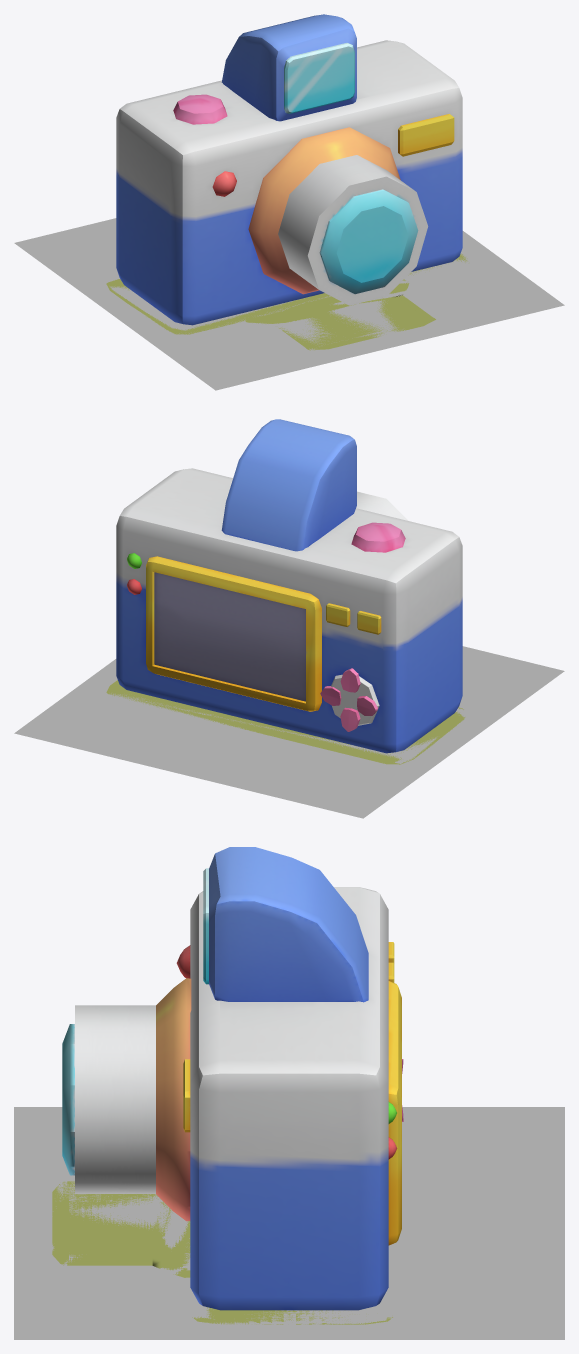
The model's file is Camera.fbx.
3 renders of one model, top to bottom at view 1: azimuth 30°, elevation 25°; view 2: azimuth 150°, elevation 25°; view 3: azimuth 270°, elevation 25°, orthographic. The views are drawn at different scales.
Visible parts, largest first — view 1: Camera.001, CameraGrid, Lens, CameraTop, Camera_Shadow, Flash, Button, Power; view 2: Camera.001, CameraGrid, Screen, CameraTop, Camera_Shadow, Button, Controls, Lens; view 3: CameraGrid, Camera.001, Lens, CameraTop, Camera_Shadow, Screen.
Part boxes in pixels (box(x1,y1,x2,y2)): Camera.001: box(116, 40, 462, 325); CameraGrid: box(14, 218, 564, 390); Lens: box(248, 127, 428, 305); CameraTop: box(221, 14, 356, 121); Camera_Shadow: box(106, 253, 467, 350); Flash: box(398, 114, 454, 156); Button: box(173, 94, 227, 124); Power: box(212, 171, 236, 196); Camera.001: box(116, 468, 462, 753); CameraGrid: box(14, 646, 564, 818); Screen: box(146, 556, 321, 711); CameraTop: box(221, 419, 356, 551); Camera_Shadow: box(106, 680, 465, 764); Button: box(351, 522, 405, 552); Controls: box(331, 674, 379, 725); Lens: box(356, 491, 408, 520); CameraGrid: box(14, 1107, 564, 1339); Camera.001: box(190, 887, 388, 1310); Lens: box(62, 978, 191, 1221); CameraTop: box(203, 847, 368, 1002); Camera_Shadow: box(52, 1181, 392, 1324); Screen: box(388, 981, 401, 1245).
Bounding box in the file's own units: 100 × 70.63 × 100.
